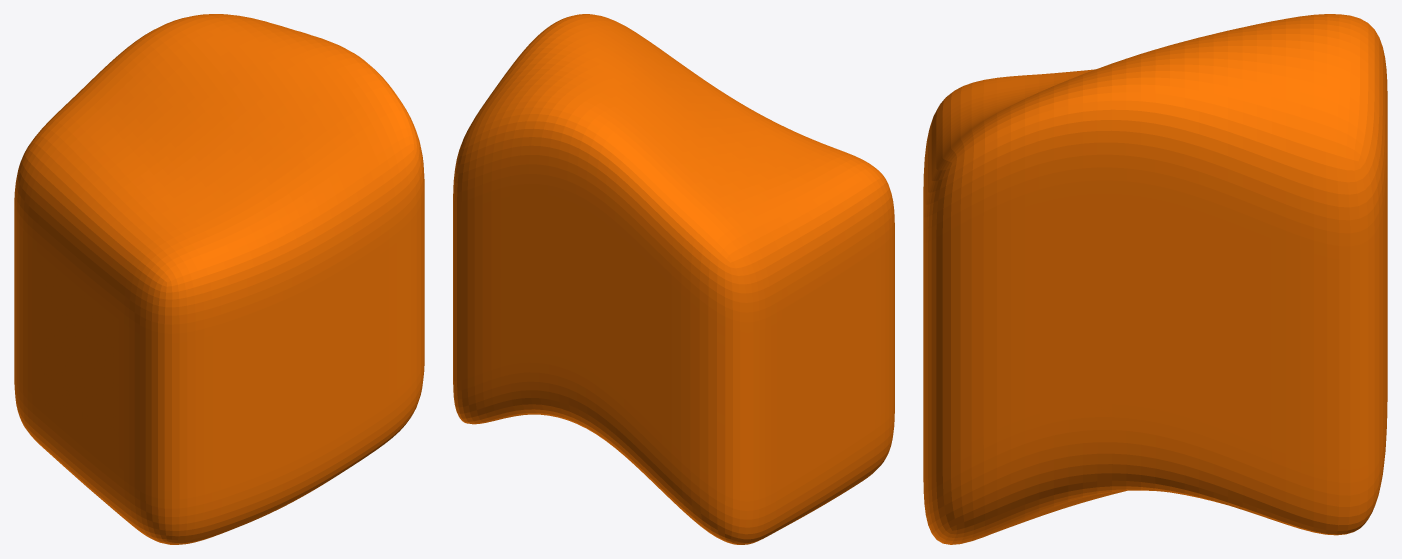
3 renders of one model, left to right at view 1: azimuth 30°, elevation 25°; view 2: azimuth 150°, elevation 25°; view 3: azimuth 270°, elevation 25°, orthographic. The views are drawn at different scales.
Parts seen in each view (by area): view 1: smooth_1_base.018; view 2: smooth_1_base.018; view 3: smooth_1_base.018.
Part boxes in pixels (bbox=[...]): smooth_1_base.018: bbox=[14, 14, 424, 544]; smooth_1_base.018: bbox=[453, 14, 894, 544]; smooth_1_base.018: bbox=[923, 14, 1387, 544].
Bounding box in the file's own units: 60 × 81.33 × 60.
